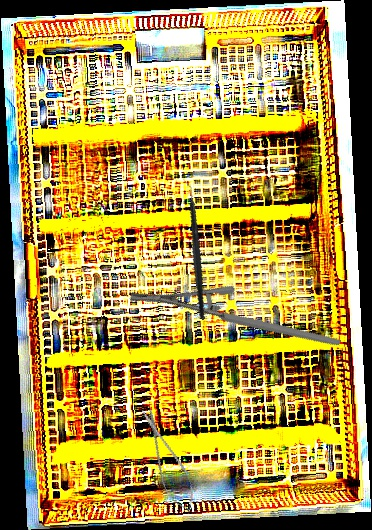Chopper: (149, 178, 238, 321)
Micro Scissor: (132, 402, 203, 517)
Needle Holder: (127, 233, 342, 407)
